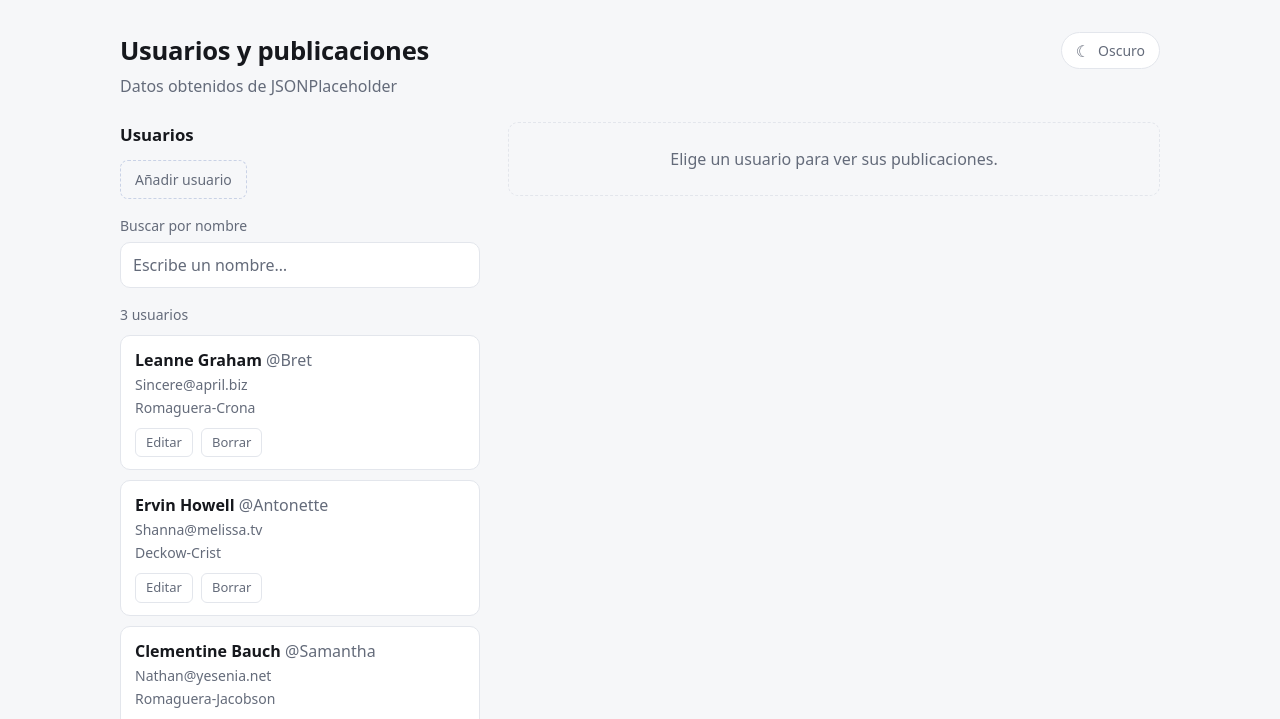
Test: App › vacía el formulario después de publicar
Click the button with aria-label "ver publicaciones de leanne graham" at [198, 360], box x1=135 y1=348 x2=465 y2=418
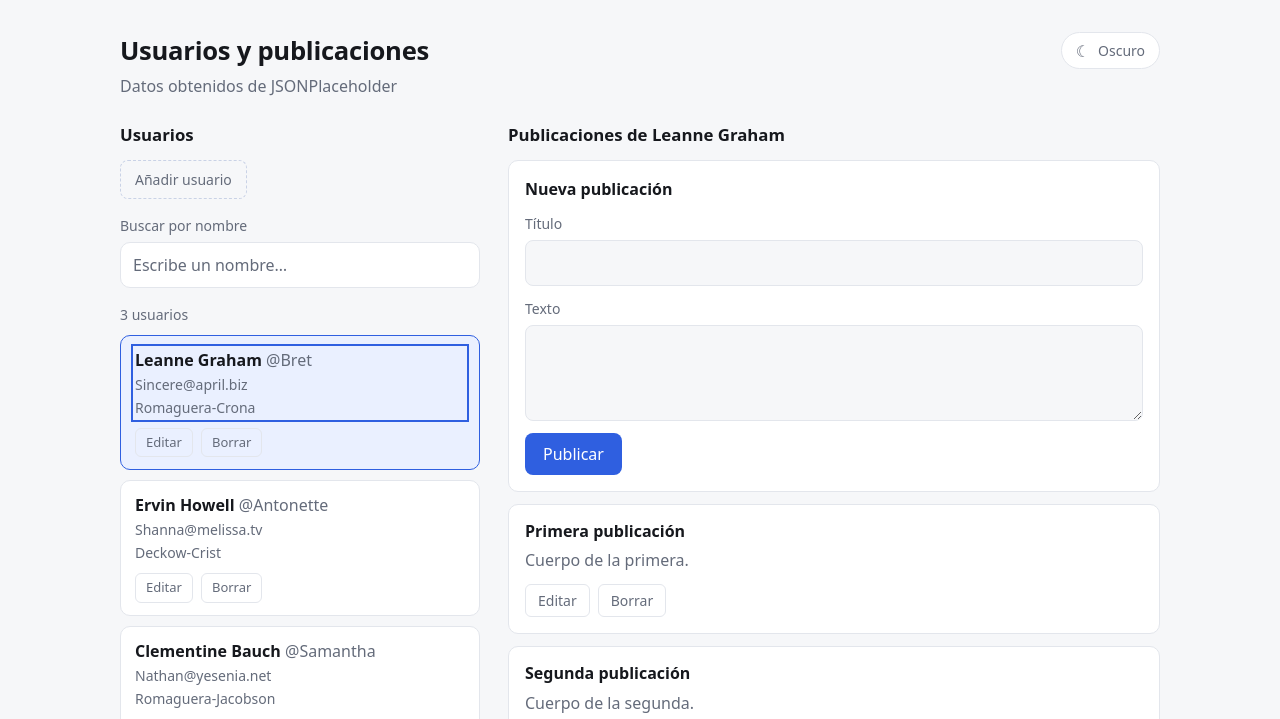
Expected: the heading "Primera publicación" is shown, x1=525 y1=520 x2=685 y2=542
Type "Algo" into the field labelled "Título" at [834, 263], box x1=525 y1=240 x2=1143 y2=286
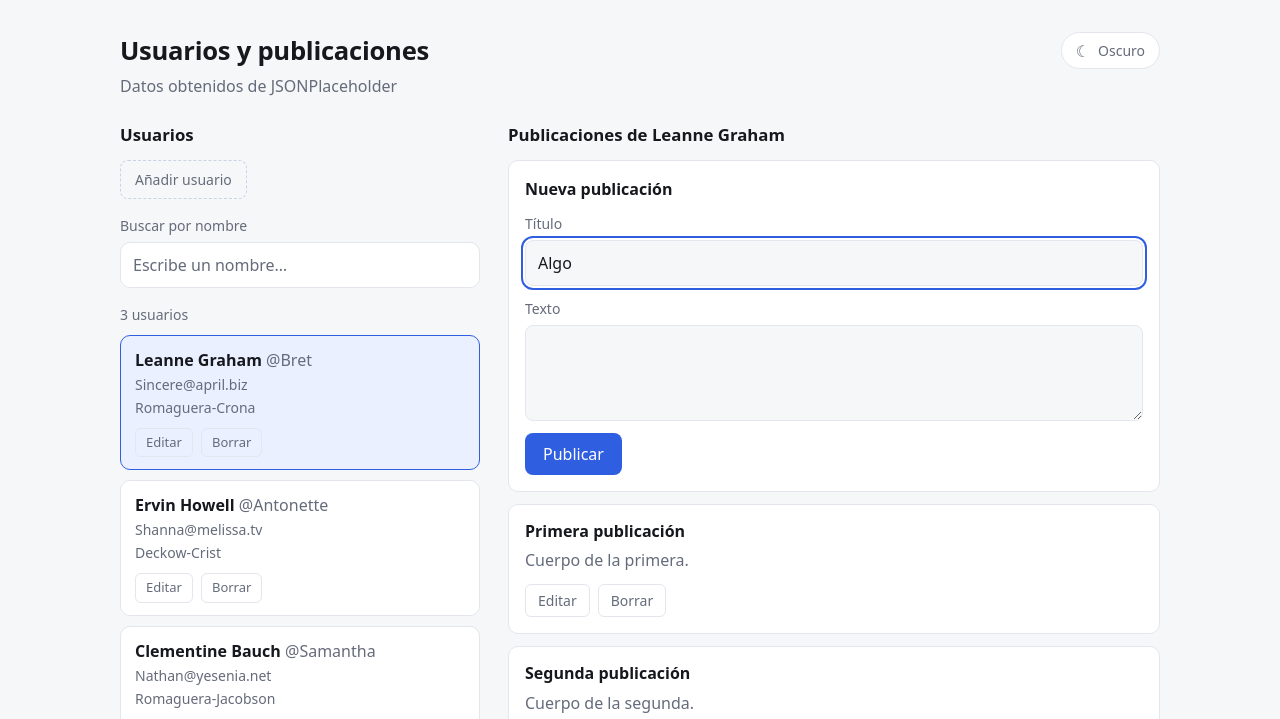
Type "Un cuerpo" into the text box labelled "Texto" at [834, 373], box x1=525 y1=325 x2=1143 y2=421
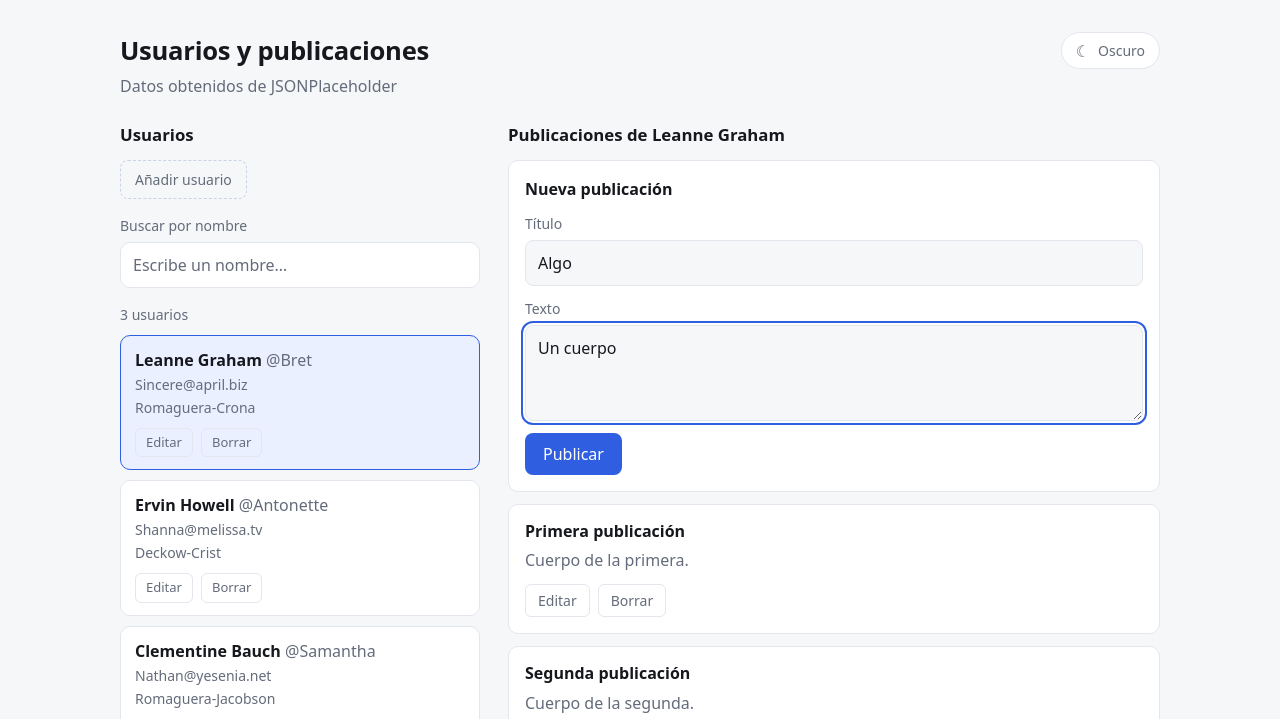
Click the button "Publicar" at [573, 454], box x1=525 y1=433 x2=622 y2=475
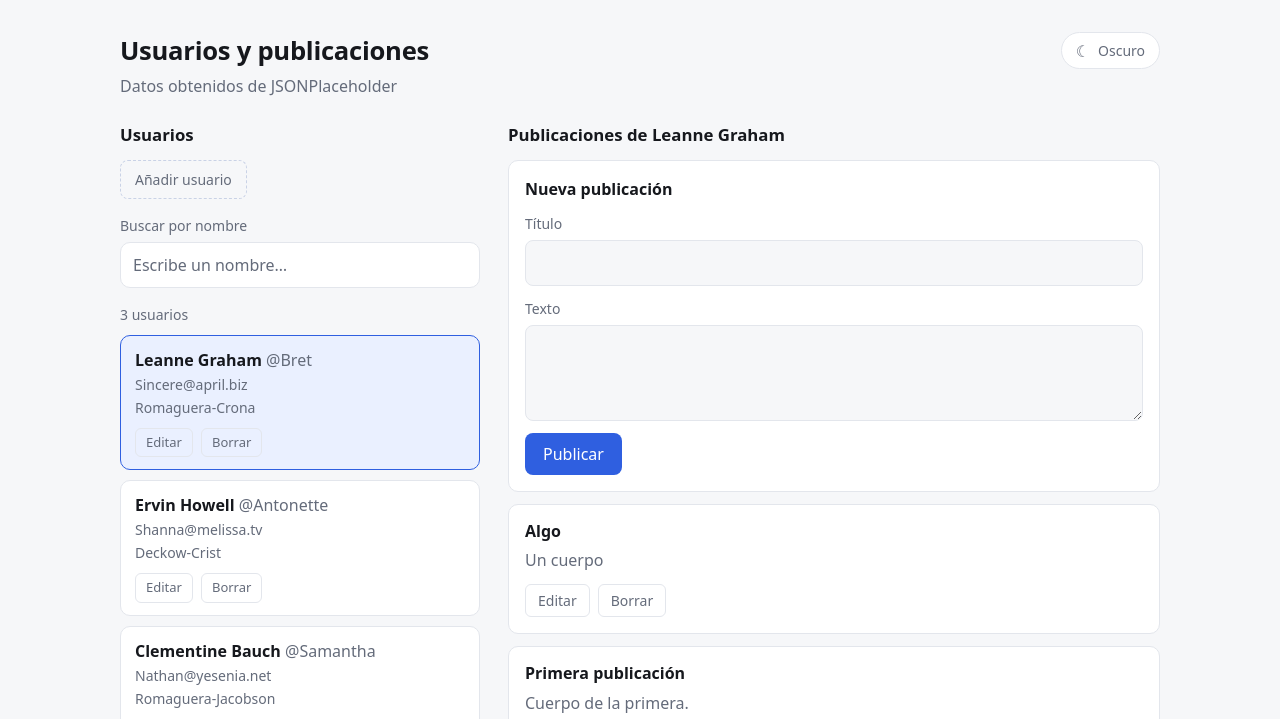
Expected: the heading "Algo" is shown, x1=525 y1=520 x2=561 y2=542
Expected: the field labelled "Título" is empty, x1=525 y1=240 x2=1143 y2=286
Expected: the text box labelled "Texto" is empty, x1=525 y1=325 x2=1143 y2=421
